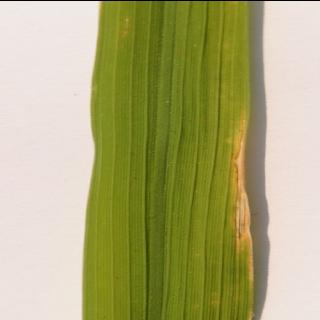Hawar-Daun: (216, 110, 256, 282), (112, 15, 134, 38)
